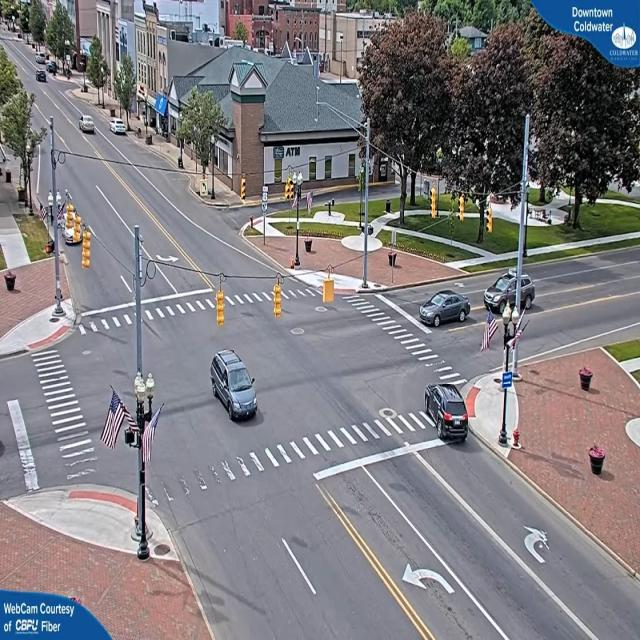car: (208, 349, 259, 422), (425, 382, 471, 442), (419, 290, 471, 328), (78, 115, 96, 134), (110, 118, 128, 136)
